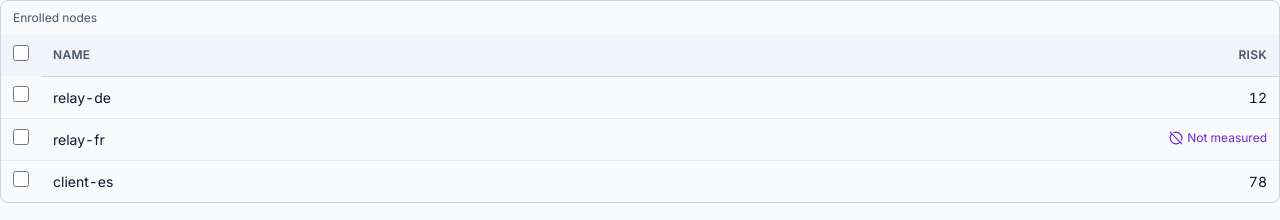
Test: Table › selects rows from the keyboard and reports the count
Click the checkbox named "select row: n1": (21, 94) [13,86,29,102]
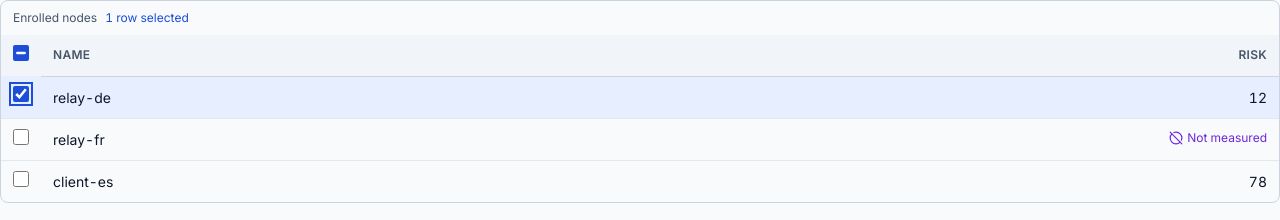
Result: the text "1 row selected" is shown at [105,10,189,25]
Click the checkbox named "Select all rows": (21, 53) [13,45,29,61]
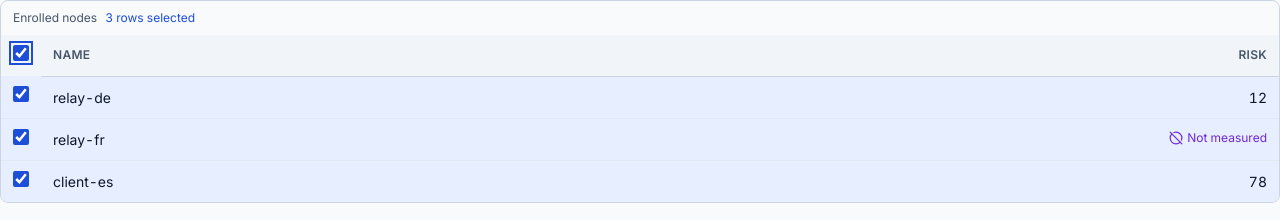
Result: the text "3 rows selected" is shown at [105,10,195,25]
